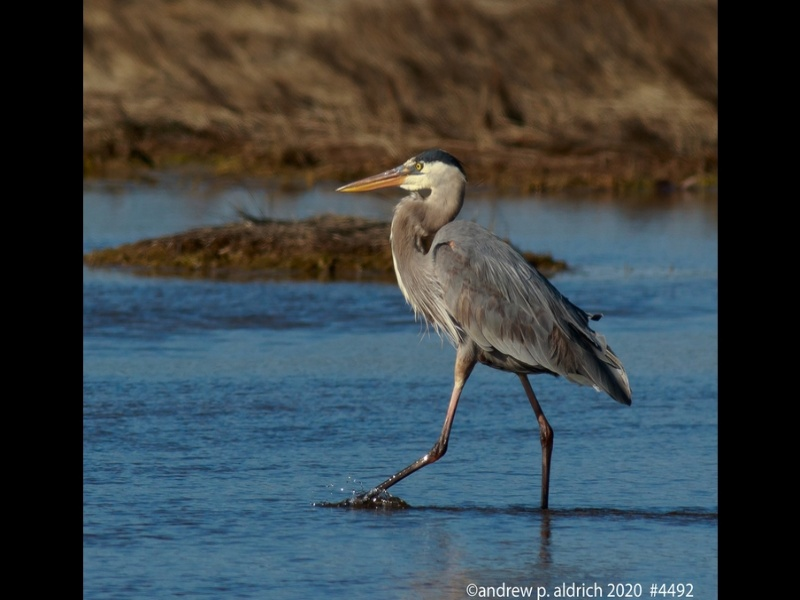heron: (333, 151, 636, 524)
